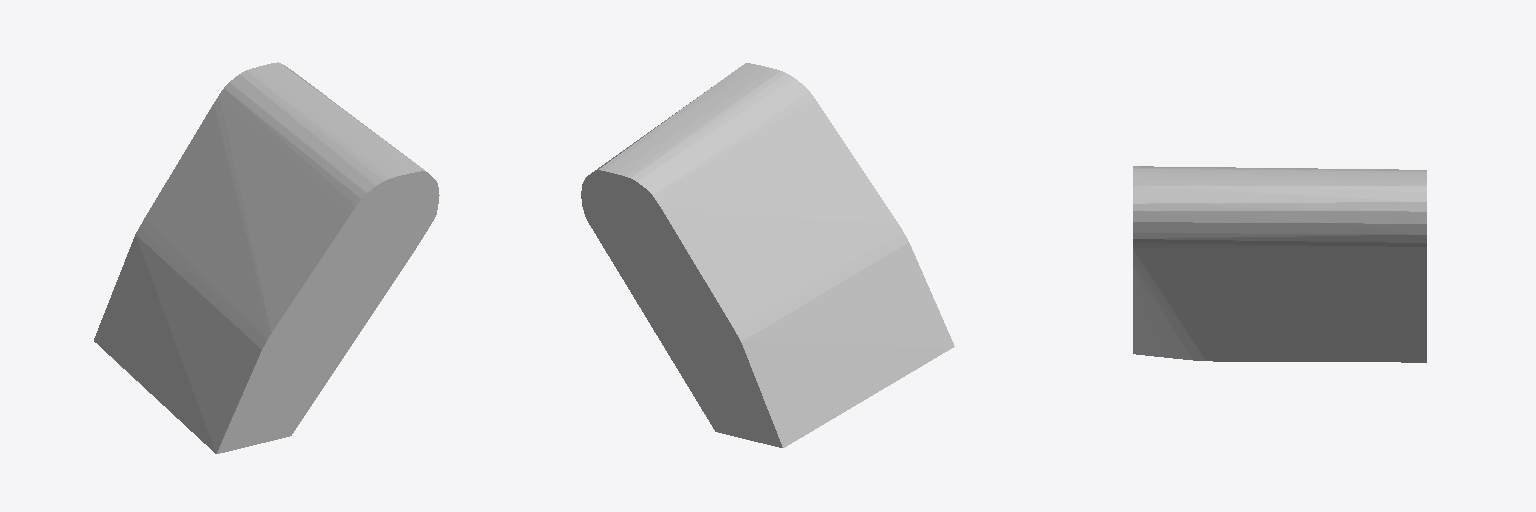
Rendered from Bowl_21_collision_2.obj.
3 views of the same model, side by side, from view 1: azimuth 30°, elevation 25°; view 2: azimuth 150°, elevation 25°; view 3: azimuth 270°, elevation 25° (orthographic).
Bounding box in the file's own units: 0.051 × 0.0503 × 0.0574.